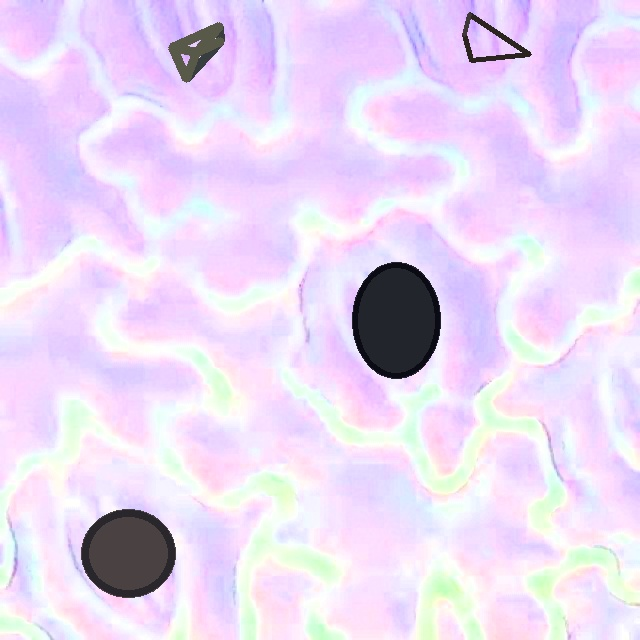open: (352, 262, 439, 377), (81, 509, 175, 597), (462, 12, 531, 62), (169, 22, 223, 82)
